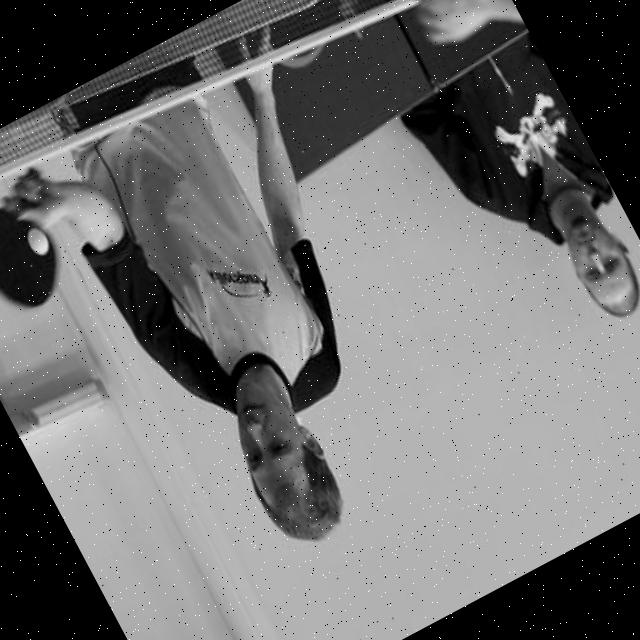ping-pong-ball: (22, 223, 54, 257)
